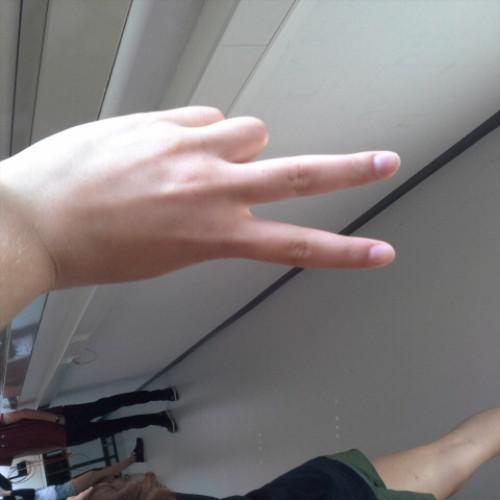scissors: (2, 101, 407, 288)
